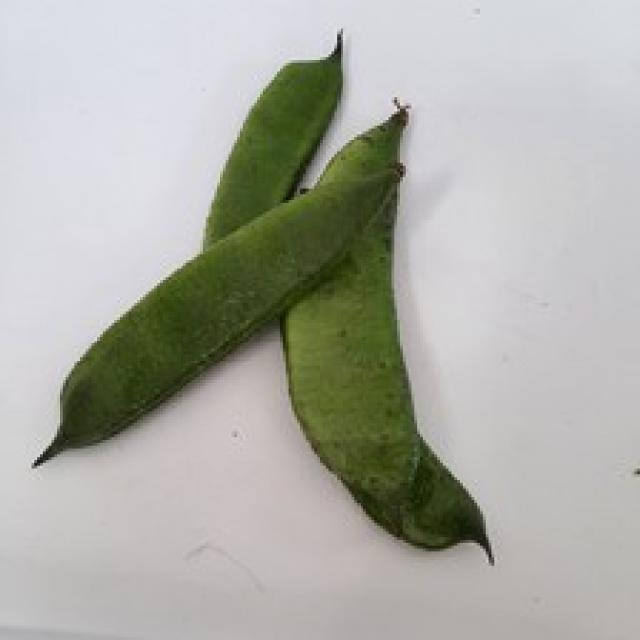Bean: (29, 94, 412, 469), (200, 26, 343, 251)
